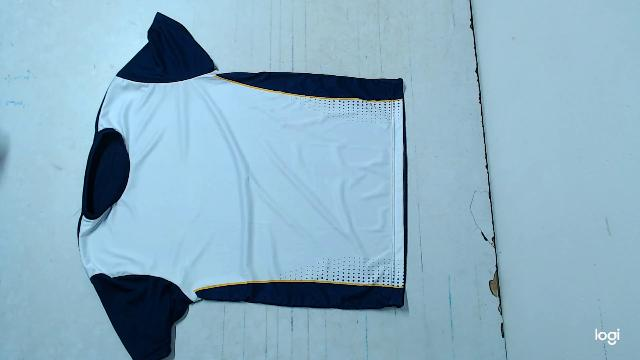new-garment: (77, 13, 406, 360)
